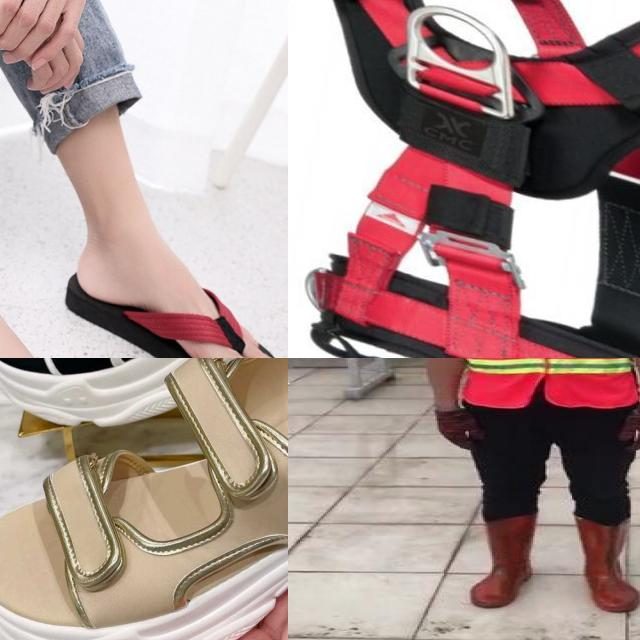Harness: (306, 0, 640, 358)
Sandals: (0, 358, 288, 640), (63, 223, 281, 358)
boots: (575, 517, 640, 612), (472, 517, 534, 608)
hand_glove: (435, 410, 481, 452), (618, 408, 640, 452)
person: (410, 358, 640, 620)
vest: (458, 358, 637, 410)
